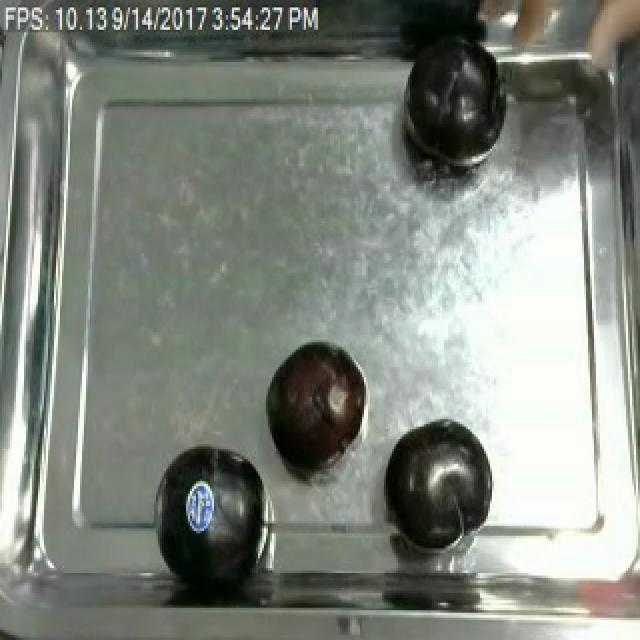Fruit: (144, 432, 274, 590), (394, 24, 510, 178), (380, 414, 496, 551), (258, 335, 370, 474)
